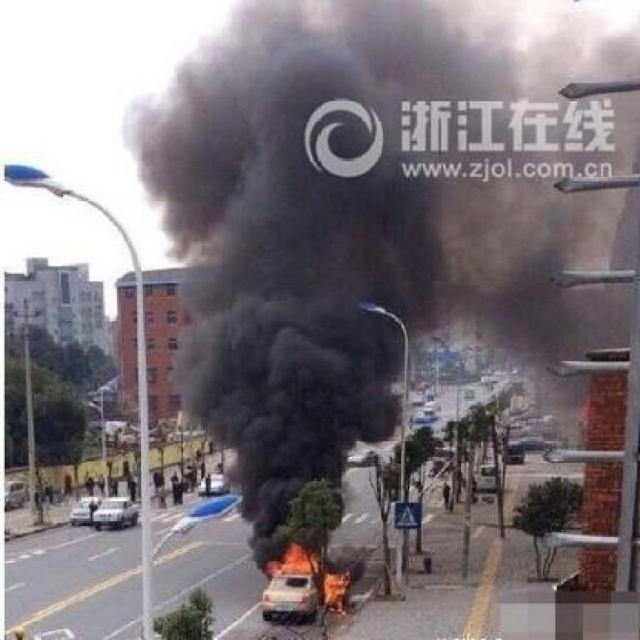Fire: (256, 541, 348, 616)
Smoke: (139, 8, 393, 540), (400, 6, 640, 362)
